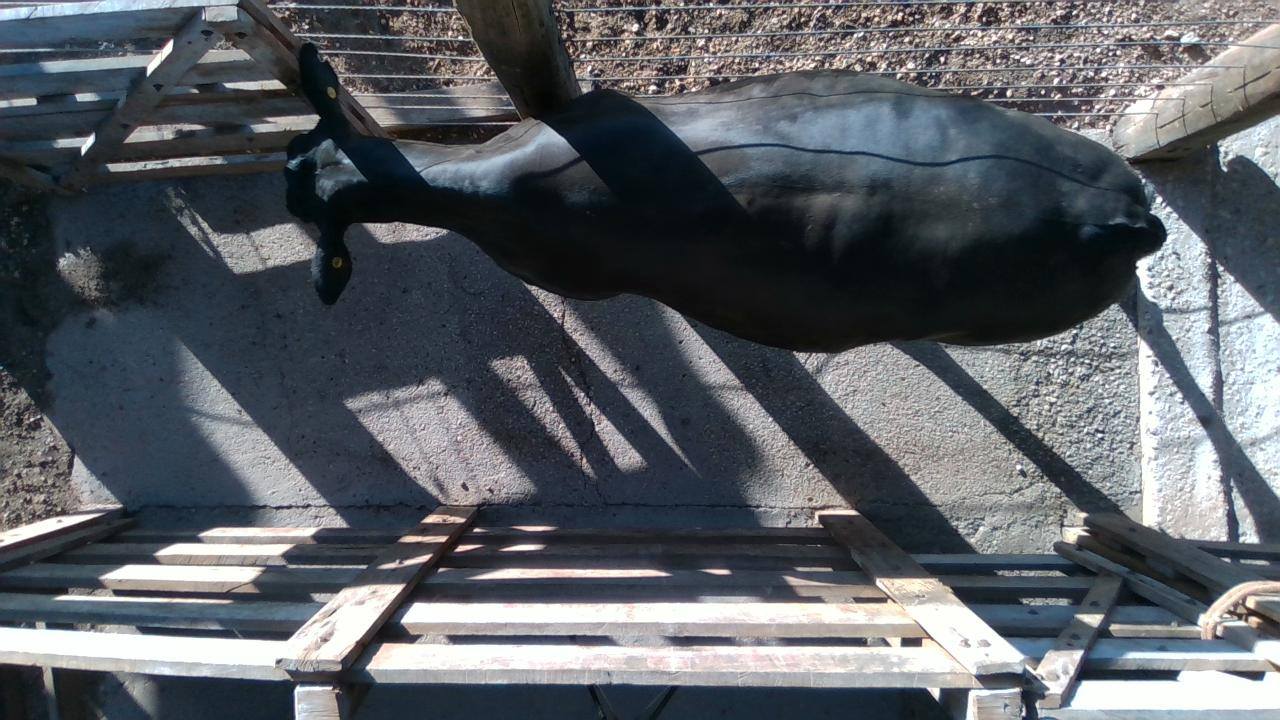cattle: (282, 41, 1166, 354)
